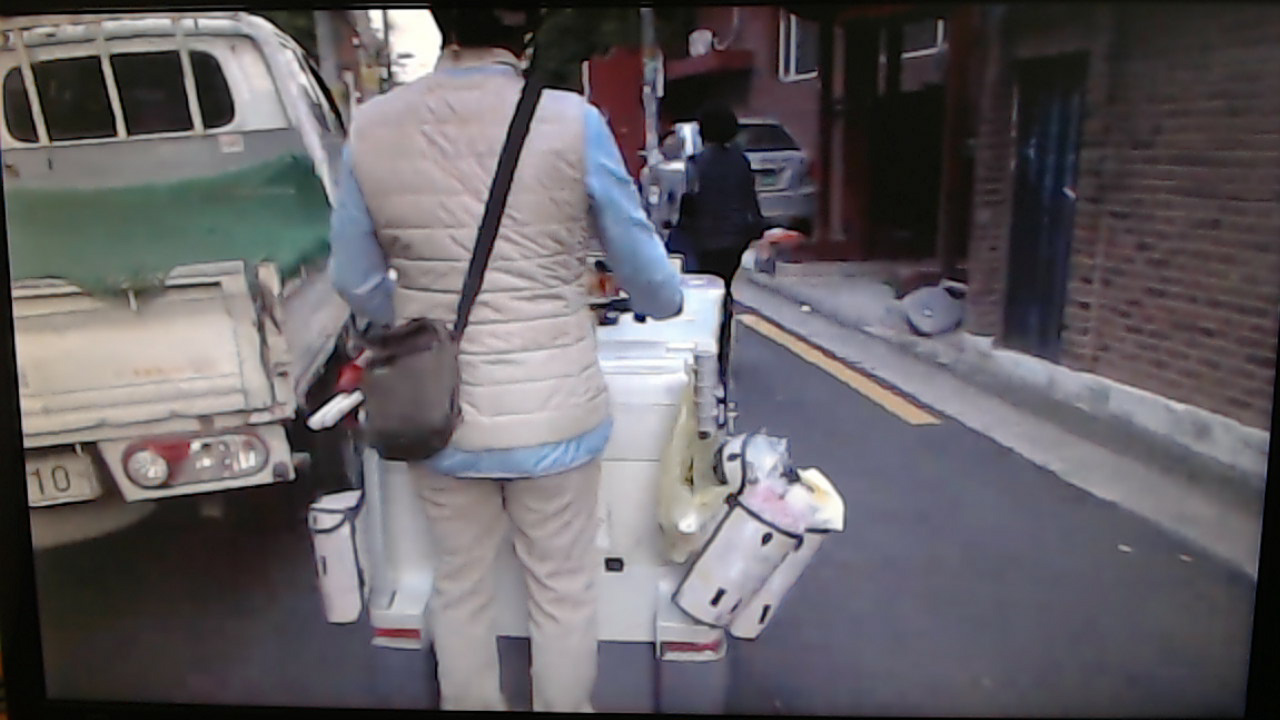Yakurut: (322, 11, 694, 716)
